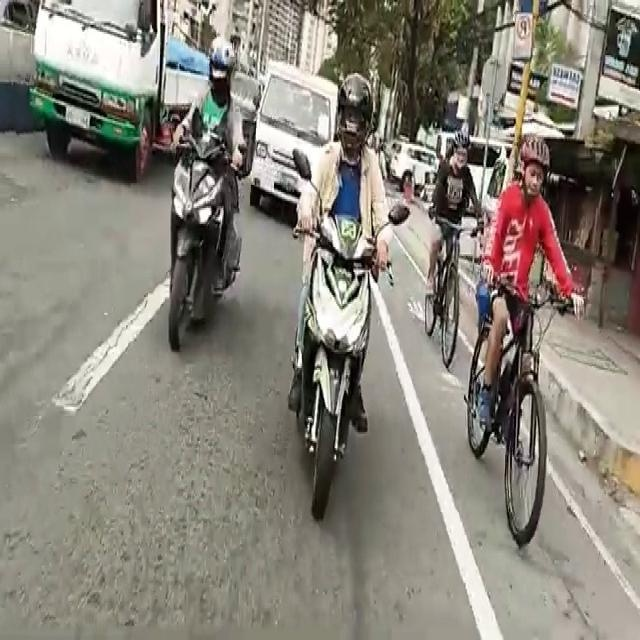car: (249, 79, 329, 210), (386, 146, 438, 193)
motorcycle: (285, 70, 391, 491), (162, 55, 256, 357)
truck: (31, 5, 201, 175)
